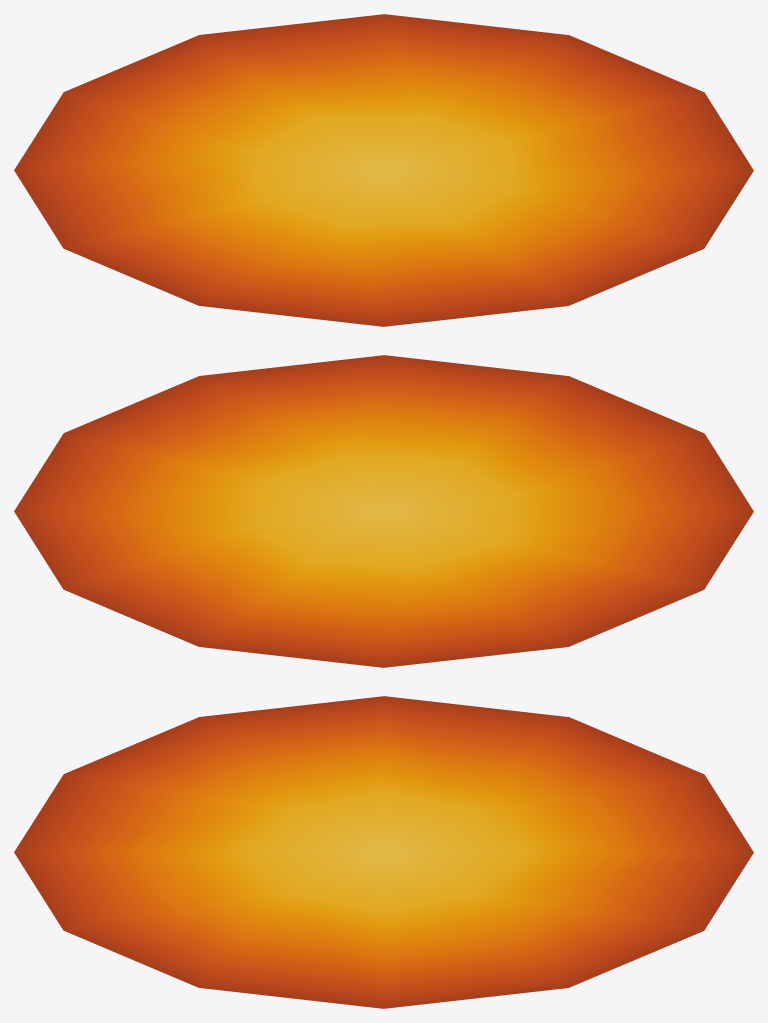
File: meltingpot_002_003.002.fbx
The picture shows the model from 3 angles, top to bottom: view 1: azimuth 30°, elevation 25°; view 2: azimuth 150°, elevation 25°; view 3: azimuth 270°, elevation 25°; orthographic projection.
Parts seen in each view (by area): view 1: meltingpot_002_003.002; view 2: meltingpot_002_003.002; view 3: meltingpot_002_003.002.
Boxes of the visible parts, box(x1,y1,x2,y2) form: meltingpot_002_003.002: box(14, 14, 753, 326); meltingpot_002_003.002: box(14, 355, 753, 667); meltingpot_002_003.002: box(14, 696, 753, 1008).
Size of the model in its own units: 595 by 595 by 0.6458.
